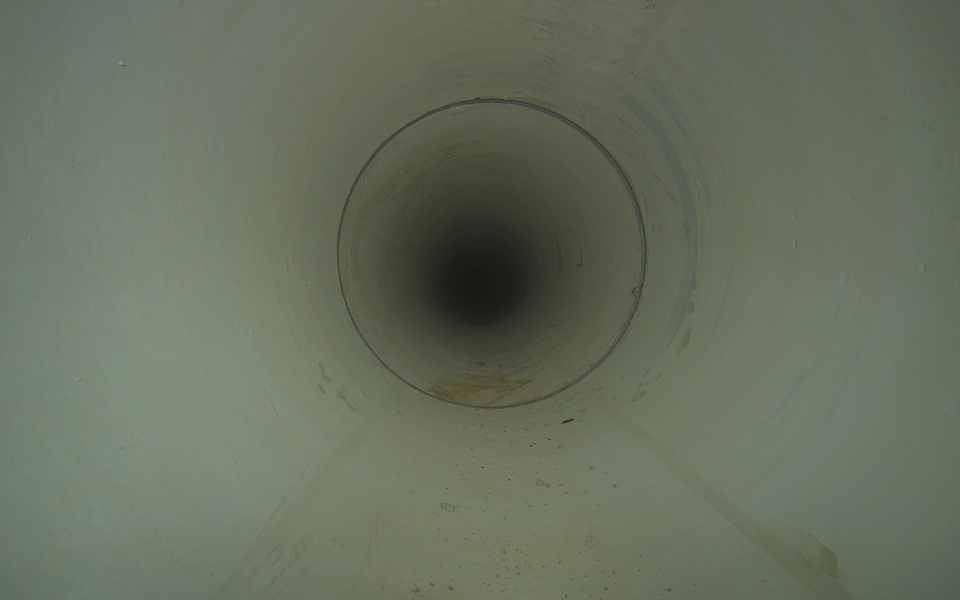circle1: (331, 97, 650, 412)
circle2: (456, 256, 501, 303)
